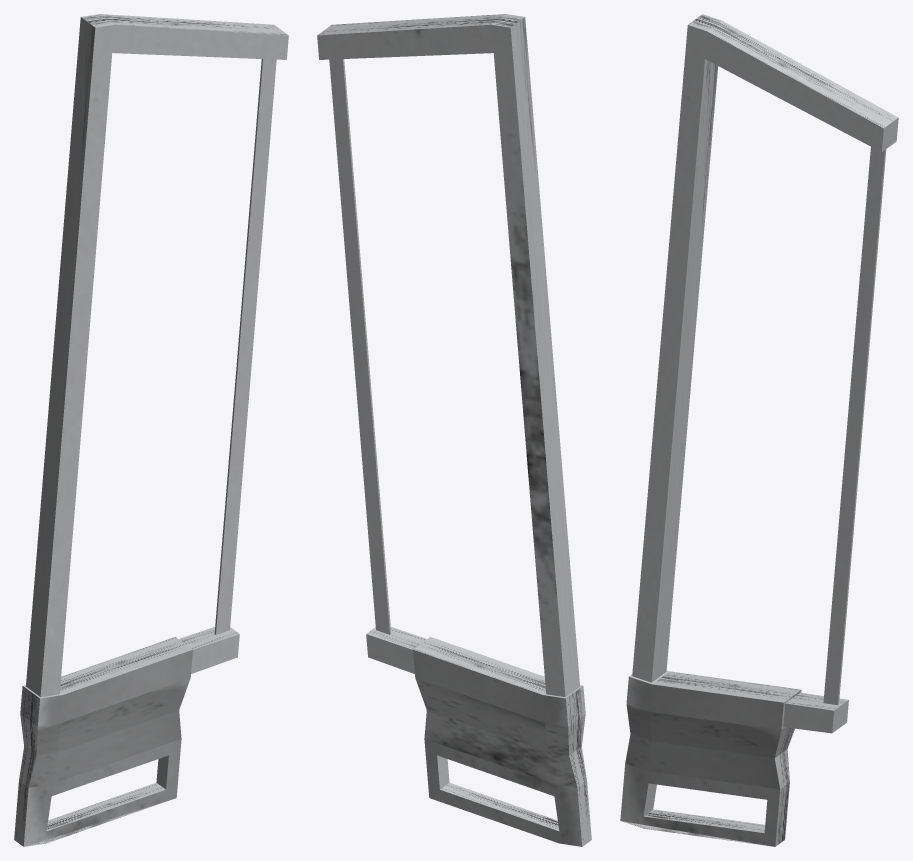
Rendered from SawA.fbx.
3 renders of one model, left to right at view 1: azimuth 30°, elevation 25°; view 2: azimuth 150°, elevation 25°; view 3: azimuth 330°, elevation 25°, orthographic.
Parts seen in each view (by area): view 1: Bone Saw; view 2: Bone Saw; view 3: Bone Saw.
Boxes of the visible parts, x1,y1,x2,y2 form: Bone Saw: [14, 14, 288, 846]; Bone Saw: [317, 14, 591, 846]; Bone Saw: [620, 14, 898, 846].
Bounding box in the file's own units: 98.54 × 289 × 11.4.
